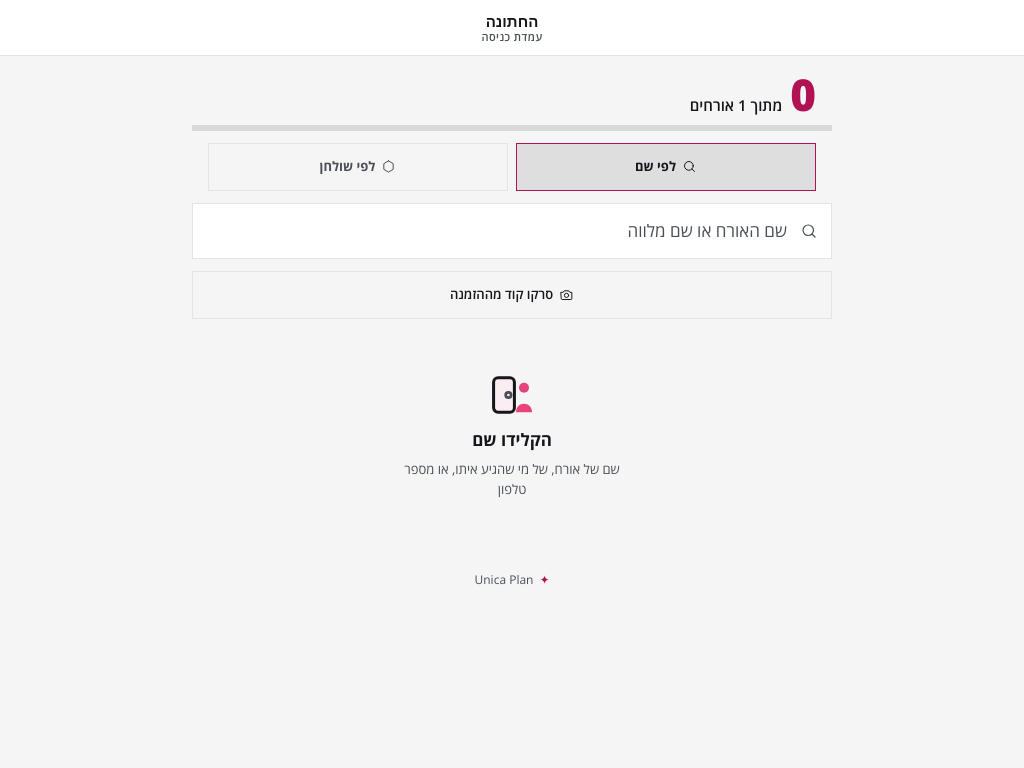
Test: RG4 — the greeter is told what will and will not be sent › link replaced mid-shift: the marks that can never be sent are named
Type "יעל" into the search field named "חיפוש אורח" at (512, 231), box [192,203,832,259]
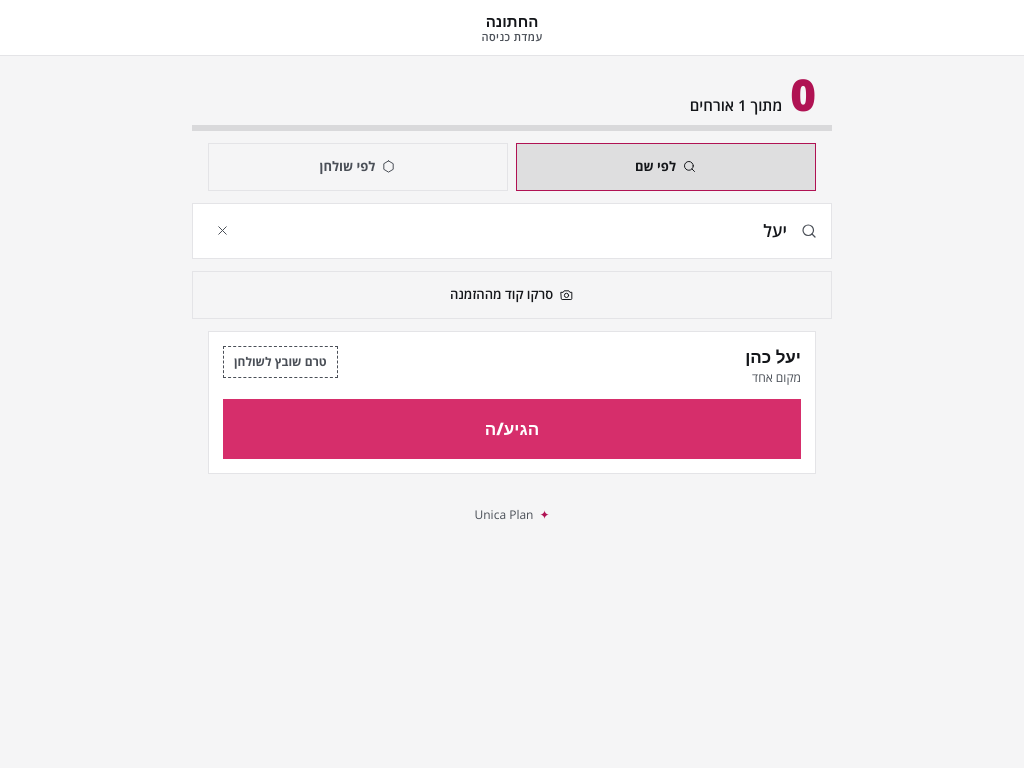
Click the button "הגיע/ה" at (512, 429), box [223,399,801,459]
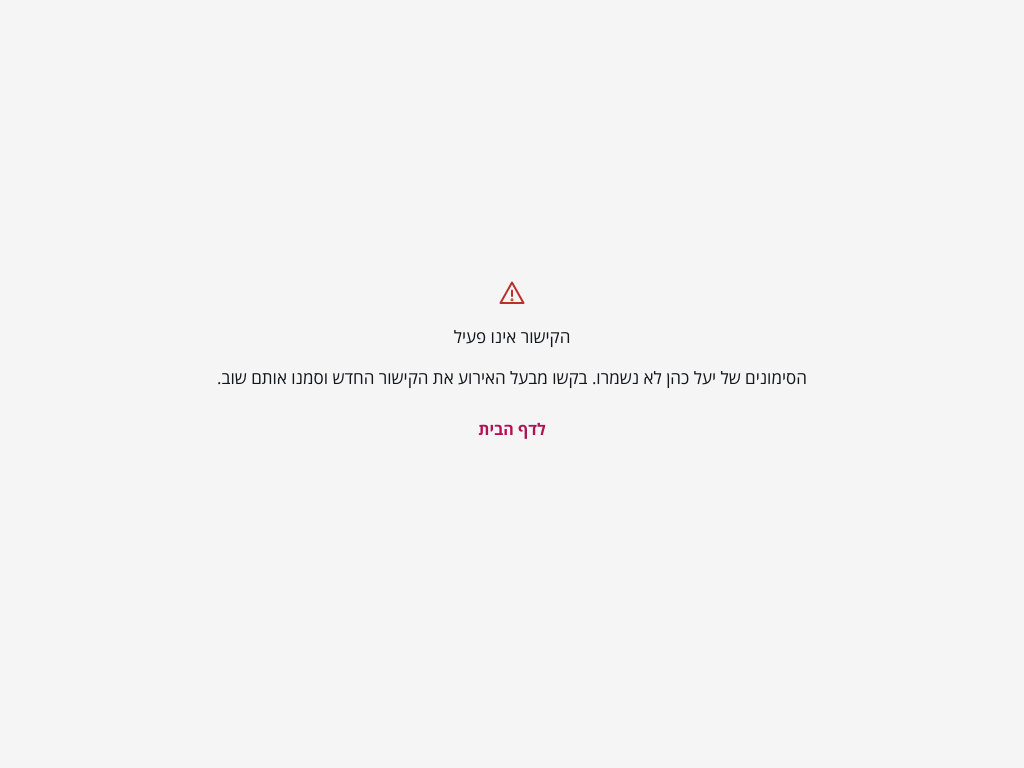
Result: the text "הסימונים של יעל כהן לא נשמרו. בקשו מבעל האירוע את הקישור החדש וסמנו אותם שוב." is shown at [217,365,807,390]
